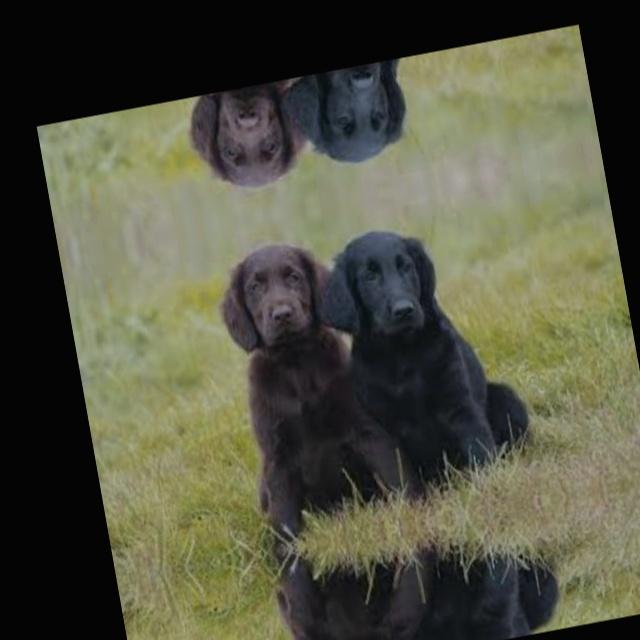dog: (328, 196, 540, 493), (206, 227, 375, 528), (301, 44, 484, 178), (388, 534, 568, 640), (179, 76, 317, 201), (263, 554, 402, 640)
